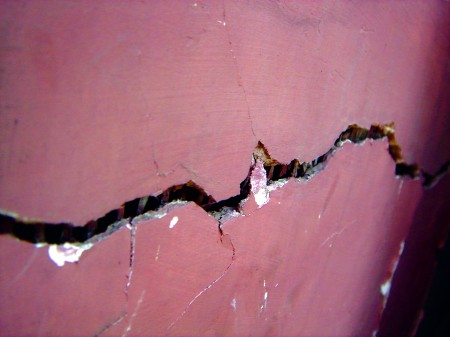crack: (4, 153, 240, 260)
